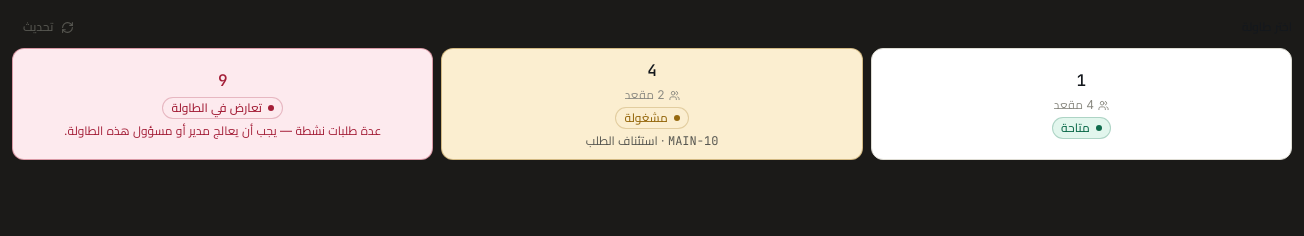
Test: Dine-In table surface — localization › the tap-on-conflict explanation is the Arabic catalogue string
Click the button with aria-label "9," at (223, 104), box [12,48,433,160]
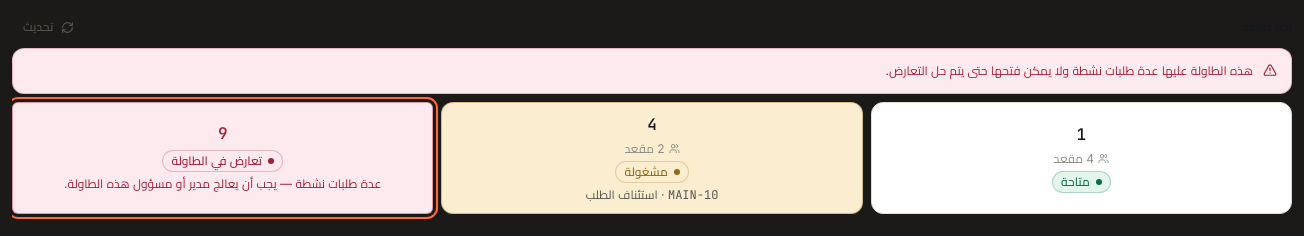
Now the message reads "هذه الطاولة عليها عدة طلبات نشطة ولا يمكن فتحها حتى يتم حل التعارض.", box [886,63,1253,78]
